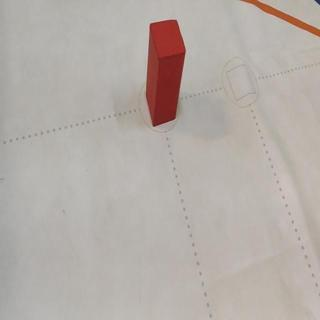redbox: (146, 17, 185, 126)
